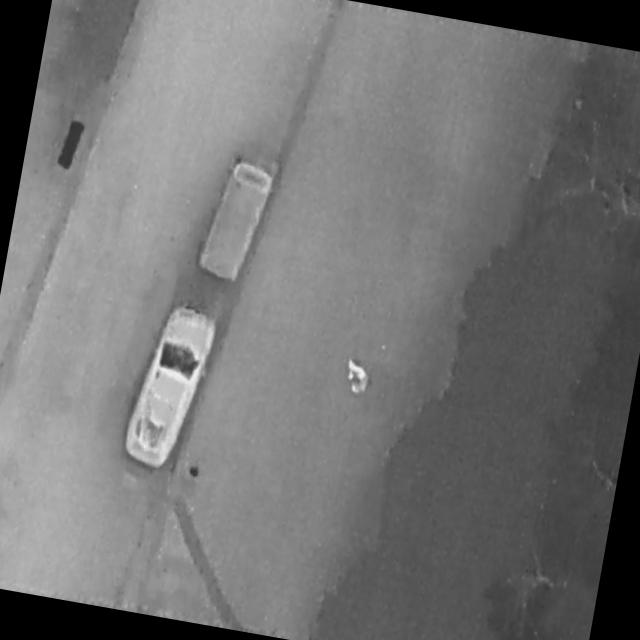person: (341, 358, 373, 397)
